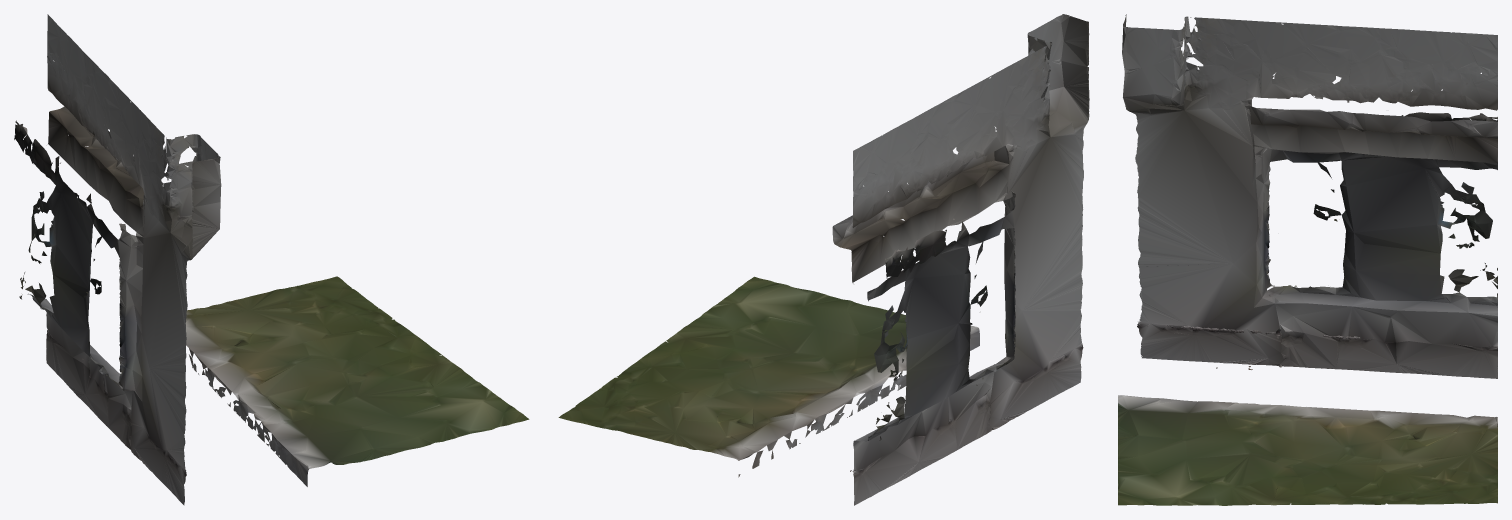
Rendered from coarse.glb.
3 views of the same model, side by side, from view 1: azimuth 30°, elevation 25°; view 2: azimuth 150°, elevation 25°; view 3: azimuth 270°, elevation 25° (orthographic). The views are drawn at different scales.
Size of the model in its own units: 3.6 by 3.6 by 3.6.
